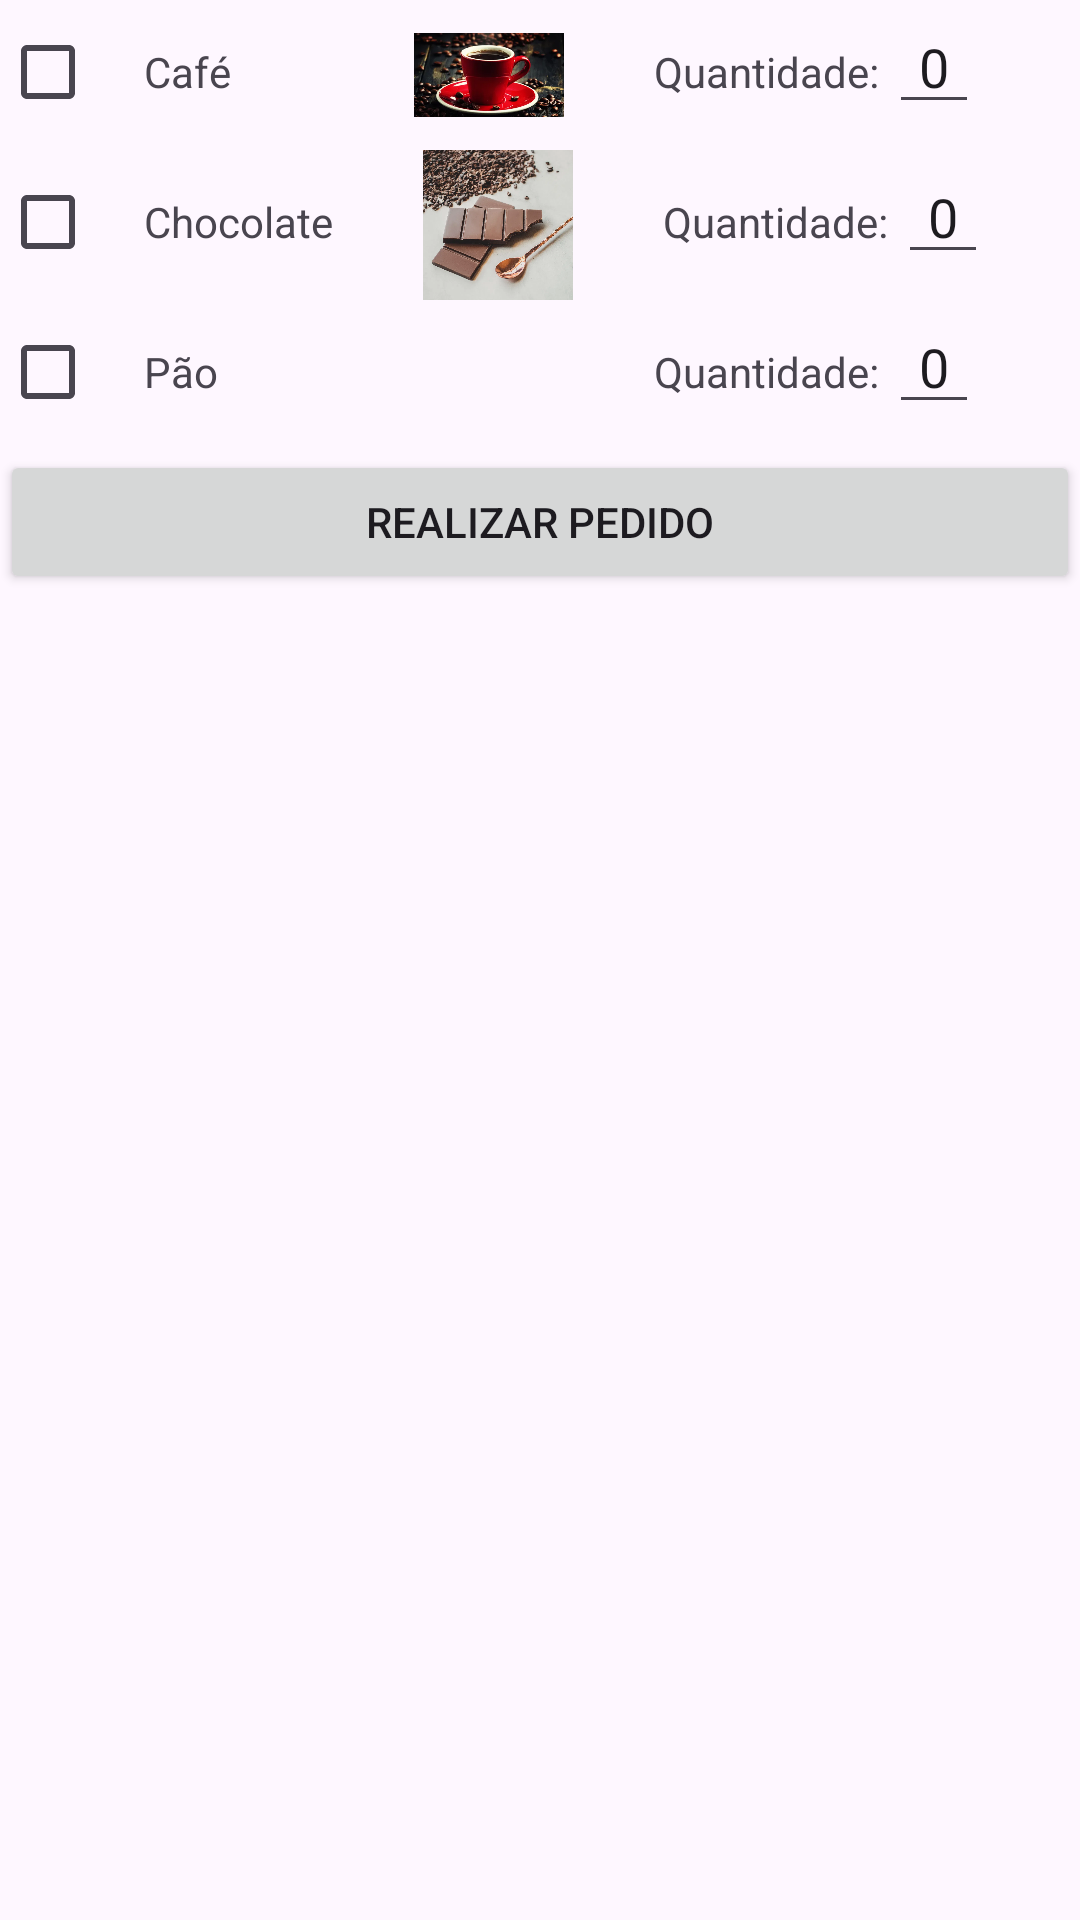

Named icons in this screenshot (1080px×1920px) and their centers, (x=x, y=y):
cafe: (x=489, y=75)
